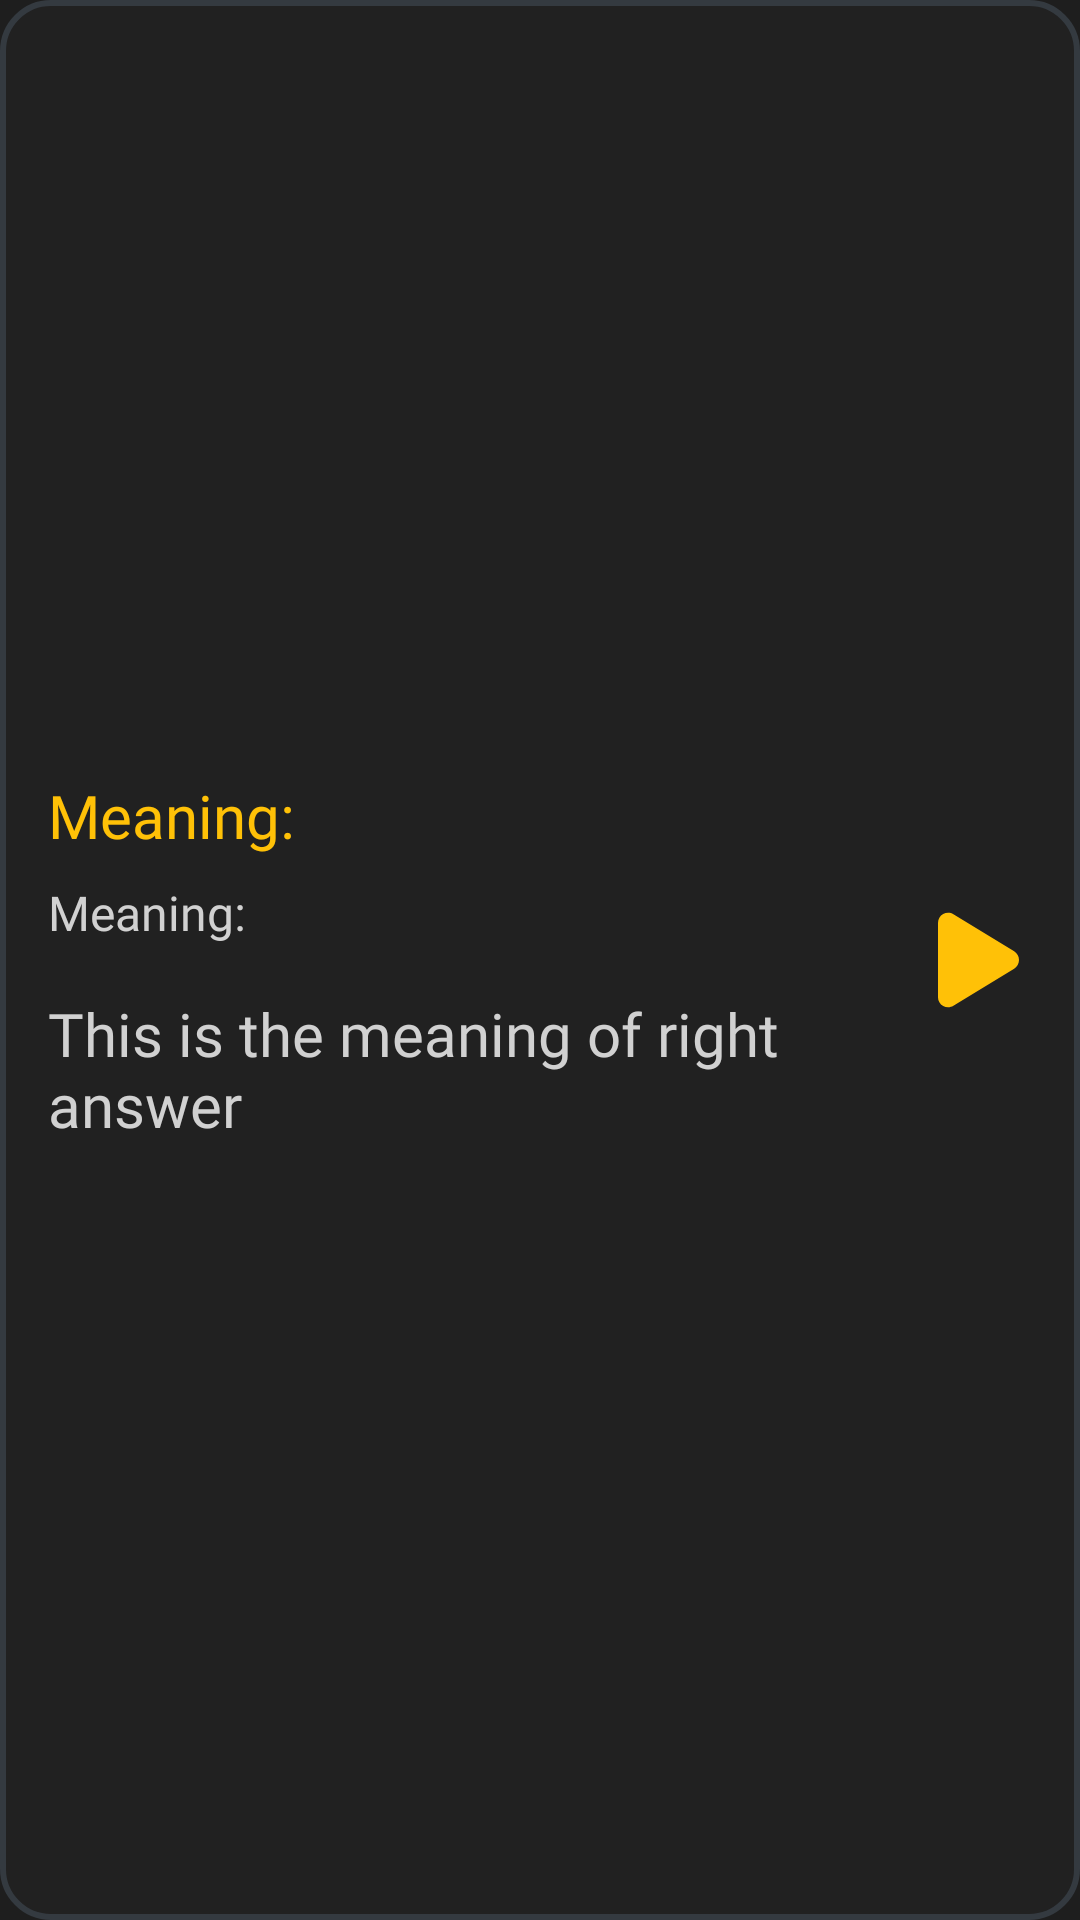

Icon click points for this 1080x1920 phone screenshot, format point (x, y):
play: point (978, 960)
